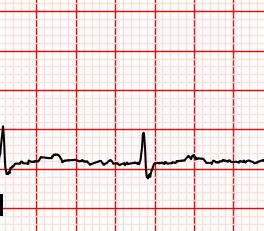Poor R Progression: (133, 131, 149, 166)
